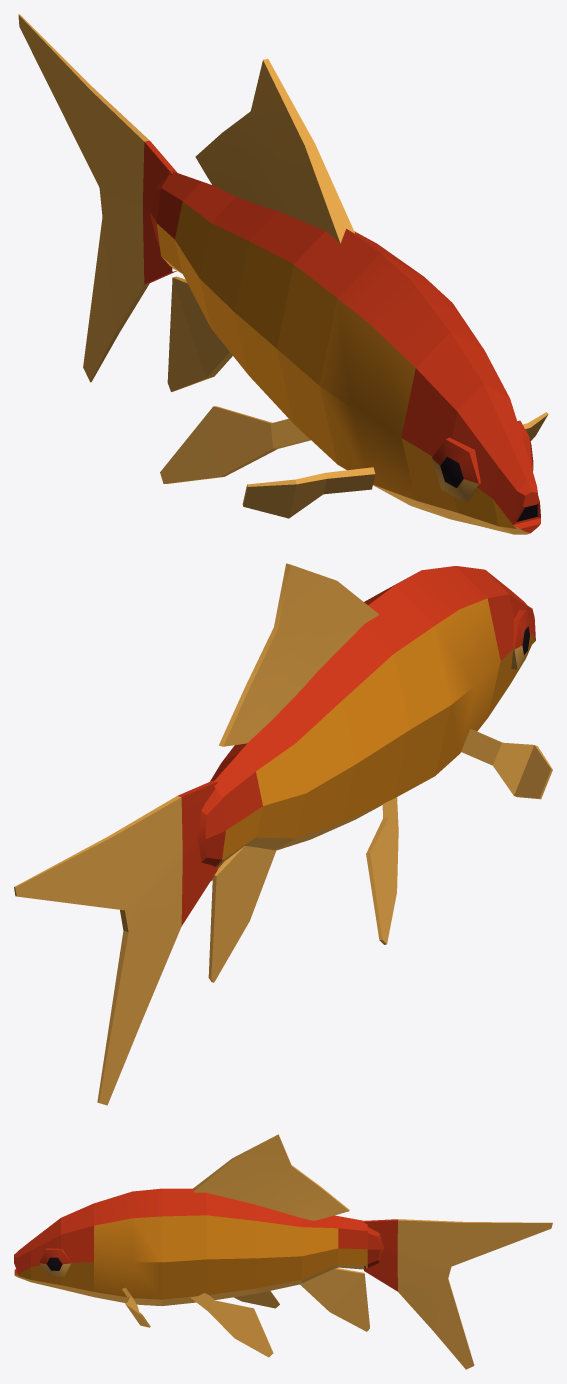
The model's file is gold-fish-anim.glb.
3 views of the same model, one above another, from view 1: azimuth 30°, elevation 25°; view 2: azimuth 150°, elevation 25°; view 3: azimuth 270°, elevation 25° (orthographic). The views are drawn at different scales.
Visible parts, largest first — view 1: body, tail, upperFin, lowerBackRightFin, lowerRightFin; view 2: body, tail, upperFin, lowerRightFin, lowerBackRightFin; view 3: body, tail, upperFin, lowerBackLeftFin, lowerBackRightFin, lowerLeftFin.
Boxes of the visible parts, box(x1,y1,x2,y2) form: body: box(156, 170, 540, 534); tail: box(18, 14, 177, 382); upperFin: box(195, 58, 355, 243); lowerBackRightFin: box(160, 406, 310, 483); lowerRightFin: box(242, 467, 375, 518); body: box(208, 566, 535, 982); tail: box(14, 780, 225, 1105); upperFin: box(218, 563, 379, 746); lowerRightFin: box(461, 729, 552, 799); lowerBackRightFin: box(366, 797, 398, 944); body: box(14, 1188, 369, 1331); tail: box(364, 1219, 552, 1369); upperFin: box(193, 1134, 349, 1220); lowerBackLeftFin: box(190, 1293, 273, 1357); lowerBackRightFin: box(234, 1291, 279, 1308); lowerLeftFin: box(122, 1287, 150, 1327).
Size of the model in its own units: 1.18 by 1.74 by 3.67.
Materials: 1 (1 with a texture image).
